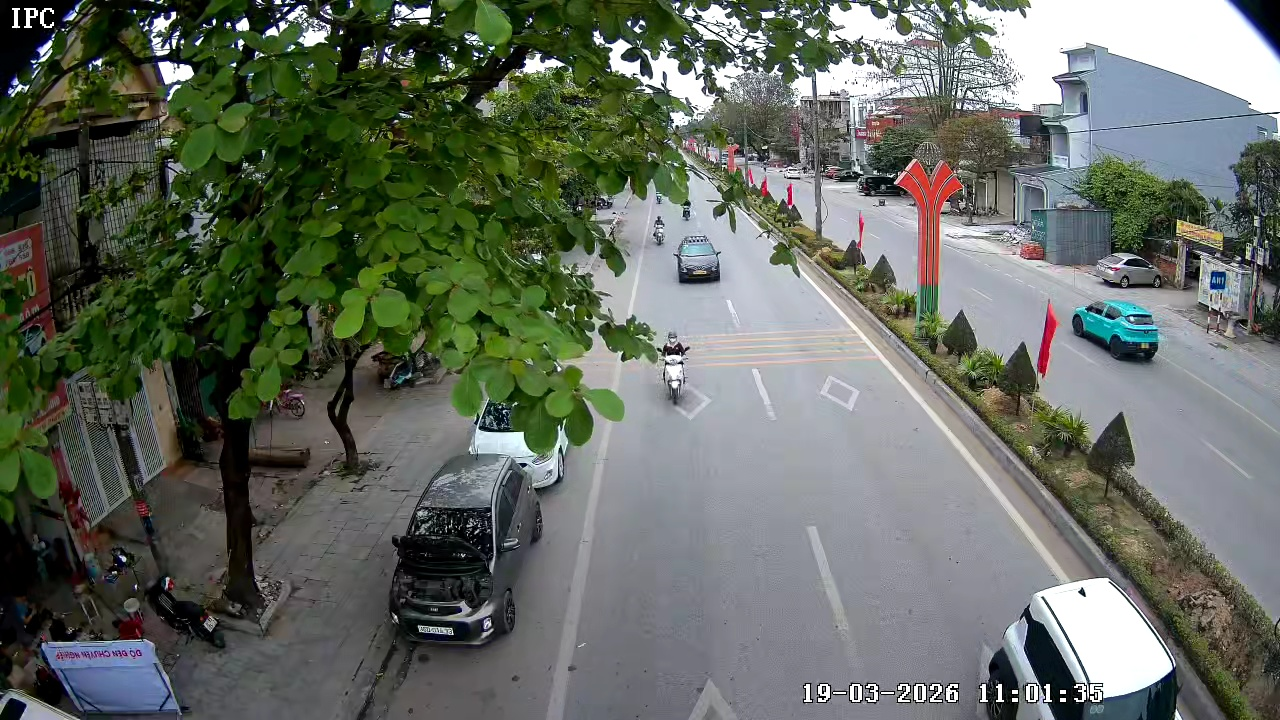car: (388, 452, 544, 646), (976, 575, 1184, 719), (1, 637, 191, 719), (468, 399, 570, 491), (1071, 298, 1160, 362), (672, 232, 723, 286), (1094, 250, 1163, 288)
motorbike: (658, 330, 692, 404), (652, 213, 666, 245), (679, 193, 693, 221)
